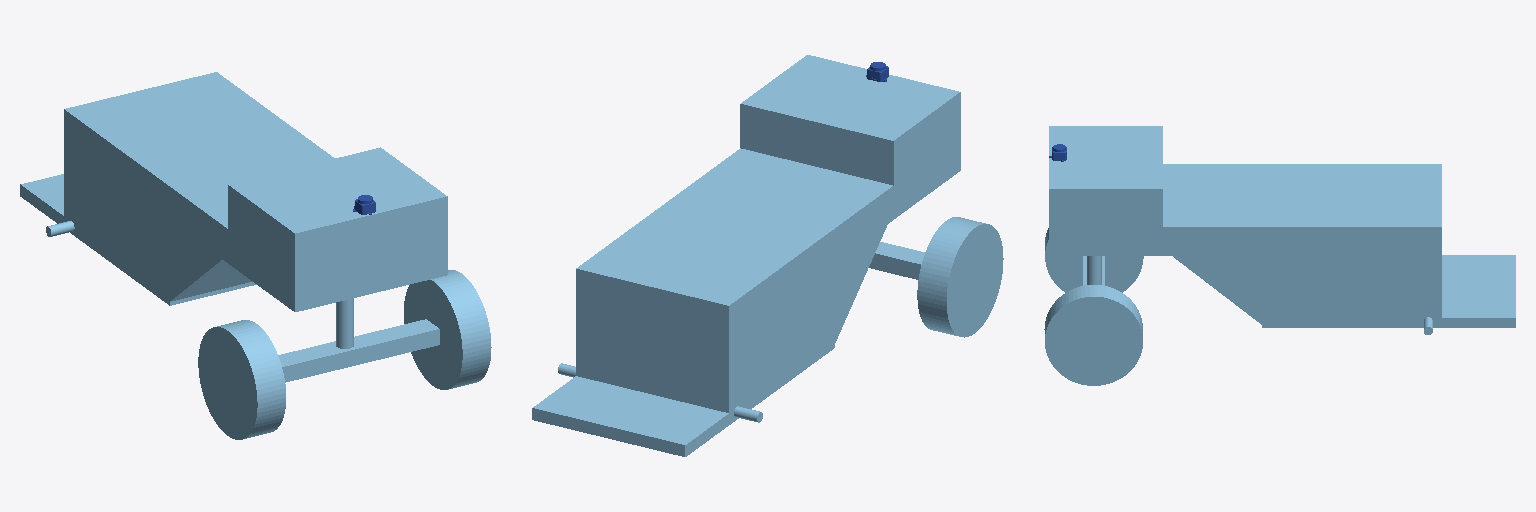
The robot description file, URDF, robot "hermes":
<?xml version="1.0"?>
<robot name="hermes">

    <material name="grey">
        <color rgba="0.7 0.7 0.7 1"/>
    </material>

    <link name="base_footprint">
    	<origin xyz="0 0 0"/>
    </link>    
    
    
    <link name="base_link">
        <inertial>
            <mass value="25.0"/>
            <inertia ixx="0.5" ixy="0.0" ixz="0.0" iyy="0.5" iyz="0.0" izz="0.1"/>
        </inertial>
        <visual>
            <origin xyz="-0.00017382192779770617736 0.44233349576524649827 -0.0084281873210687308084" rpy="0 -0 -1.570796326794896558" />
            <geometry>
                <mesh filename="package://hermes_urdf/urdf/kere.stl"/>
            </geometry>
            <material name="kere_material">
                <color rgba="0.61568627450980395466 0.81176470588235294379 0.92941176470588238168 1.0"/>
            </material>
        </visual>
        <collision>
        	<origin xyz="-0.00017382192779770617736 0.44233349576524649827 -0.0084281873210687308084" rpy="0 -0 -1.570796326794896558" />
            <geometry>
                <mesh filename="package://hermes_urdf/urdf/kere.stl"/>
            </geometry>
        </collision>
    </link>

    <link name="rear_right_wheel">
        <inertial>
            <mass value="3.0"/>
            <inertia ixx="0.1" ixy="0.0" ixz="0.0" iyy="0.1" iyz="0.0" izz="0.05"/>
        </inertial>
        <visual>
            <origin xyz="0 0 0" rpy="0 -0 0" />
            <geometry>
                <mesh filename="package://hermes_urdf/urdf/rehv_tagumine.stl"/>
            </geometry>
            <material name="rehv1_material">
                <color rgba="0.61568627450980395466 0.81176470588235294379 0.92941176470588238168 1.0"/>
            </material>
        </visual>
        <collision>
        	<origin xyz="0 0 0" rpy="0 -0 0" />
            <geometry>
                <mesh filename="package://hermes_urdf/urdf/rehv_tagumine.stl"/>
            </geometry>
        </collision>
    </link>

    <joint name="base_rear_right_wheel_joint" type="continuous">
        <parent link="base_link"/>
        <child link="rear_right_wheel"/>
        <origin xyz="0.25732617807220242723 0.88155349576524644206 0.0015718126789312780733" rpy="1.570796326794896558 1.570796326794896558 0" />
        <axis xyz="0 -1 0"/>
    </joint>

    <link name="front_left_wheel">
        <inertial>
            <mass value="10.0"/>
            <inertia ixx="0.1" ixy="0.0" ixz="0.0" iyy="0.1" iyz="0.0" izz="0.05"/>
        </inertial>
        <visual>
            <origin xyz="0 0 0" rpy="0 0 1.58" />
            <geometry>
                <mesh filename="package://hermes_urdf/urdf/rehv.stl"/>
            </geometry>
            <material name="rehv1_material">
                <color rgba="0.61568627450980395466 0.81176470588235294379 0.92941176470588238168 1.0"/>
            </material>
        </visual>
        <collision>
        	<origin xyz="0 0 0" rpy="0 0 1.58" />
            <geometry>
                <mesh filename="package://hermes_urdf/urdf/rehv.stl"/>
            </geometry>
        </collision>
    </link>

    <joint name="base_front_left_wheel_joint" type="continuous">
        <parent link="liigend"/>
        <child link="front_left_wheel"/>
        <origin xyz="0.30257617807220232864 -0.00024642929502571853106 -0.0034281873210687194287" rpy="0 -0 3.141592653589793116" />
        <axis xyz=" -1 0 0" />
    </joint>

    <link name="rear_left_wheel">
        <inertial>
            <mass value="3.0"/>
            <inertia ixx="0.1" ixy="0.0" ixz="0.0" iyy="0.1" iyz="0.0" izz="0.05"/>
        </inertial>
        <visual>
            <origin xyz="0 0 0" rpy="0 -0 0" />
            <geometry>
                <mesh filename="package://hermes_urdf/urdf/rehv_tagumine.stl"/>
            </geometry>
            <material name="rehv1_material">
                <color rgba="0.61568627450980395466 0.81176470588235294379 0.92941176470588238168 1.0"/>
            </material>
        </visual>
        <collision>
        	<origin xyz="0 0 0" rpy="0 -0 0" />
            <geometry>
                <mesh filename="package://hermes_urdf/urdf/rehv_tagumine.stl"/>
            </geometry>
        </collision>
    </link>

    <joint name="base_rear_left_wheel_joint" type="continuous">
        <parent link="base_link"/>
        <child link="rear_left_wheel"/>
        <origin xyz="-0.207673821927797847 0.88155349576524655308 0.0015718126789312503178" rpy="1.570796326794896558 1.570796326794896558 0" />
        <axis xyz="0 -1 0" />
    </joint>
    
    <link name="front_right_wheel">
        <inertial>
            <mass value="10.0"/>
            <inertia ixx="0.1" ixy="0.0" ixz="0.0" iyy="0.1" iyz="0.0" izz="0.05"/>
        </inertial>
        <visual>
            <origin xyz="0 0 0" rpy="0 0 1.583" />
            <geometry>
                <mesh filename="package://hermes_urdf/urdf/rehv.stl"/>
            </geometry>
            <material name="rehv1_material">
                <color rgba="0.61568627450980395466 0.81176470588235294379 0.92941176470588238168 1.0"/>
            </material>
        </visual>
        <collision>
        	<origin xyz="0 0 0" rpy="0 0 1.583" />
            <geometry>
                <mesh filename="package://hermes_urdf/urdf/rehv.stl"/>
            </geometry>
        </collision>
    </link>

    <joint name="base_front_right_wheel_joint" type="continuous">
        <parent link="liigend"/>
        <child link="front_right_wheel"/>
        <origin xyz="-0.30292382192779770955 -0.00024642929502571853106 -0.0034281873210687333065" rpy="0 -0 0" />
        <axis xyz="-1 0 0" />
    </joint>

    <link name="liigend">
        <inertial>
            <mass value="2.0"/>
            <inertia ixx="0.5" ixy="0.0" ixz="0.0" iyy="0.5" iyz="0.0" izz="0.1"/>
        </inertial>
        <visual>
            <origin xyz="0 0 0" rpy="0 -0 0" />
            <geometry>
                <mesh filename="package://hermes_urdf/urdf/liigend.stl"/>
            </geometry>
            <material name="liigend_material">
                <color rgba="0.61568627450980395466 0.81176470588235294379 0.92941176470588238168 1.0"/>
            </material>
        </visual>
    </link>

    <joint name="liigend_to_kere_joint" type="revolute">
        <parent link="base_link"/>
        <child link="liigend"/>
        <origin xyz="-0.00017382192779770433422 -0.00024642929502571853106 -0.0034281873210687263676" rpy="0 -0 0" />
        <axis xyz="0 0 1"/>
        <limit lower="-0.7854" upper="0.7854" effort="50" velocity="2"/>

        
    </joint>
    
    <joint name="base_joint" type="fixed">
        <parent link="base_footprint"/>
        <child link="base_link"/>
        <origin xyz="0 0 0.1" rpy="0 0 0"/>
    </joint>
    
   
    
    
    <link name="imu_link">
    </link>

    <joint name="base_link_to_imu" type="fixed">
        <parent link="base_link"/>
        <child link="imu_link"/>
        <origin xyz="-0.00032976124091513292491 -0.091578898488961058 0.3865718126789312592" rpy="6.3108872417680804303e-30 -2.9537602700216738211e-30 -3.141592653589793116" />
    </joint>

    
    
    
    <ros2_control name="MyRobotHardware" type="system">

          <!-- Use the GenericSystem hardware plugin for real hardware -->
          <hardware>
              <plugin>ros2_control_components/GenericSystem</plugin>
              <param name="example_param">example_value</param>
          </hardware>

          <!-- Define the left wheel joint -->
          <joint name="base_rear_left_wheel_joint">
              <command_interface name="velocity">
                  <param name="min">-10</param>
                  <param name="max">10</param>
              </command_interface>
              <state_interface name="position"/>
              <state_interface name="velocity"/>
          </joint>

          <!-- Define the right wheel joint -->
          <joint name="base_rear_right_wheel_joint">
              <command_interface name="velocity">
                  <param name="min">-10</param>
                  <param name="max">10</param>
              </command_interface>
              <state_interface name="position"/>
              <state_interface name="velocity"/>
          </joint>
    
      </ros2_control>
    
    <material name="ld19 color">
        <color rgba="0.2313725490196078538 0.38039215686274507888 0.7058823529411765163 1.0"/>
    </material>
    
    <link name="ld19">
        <inertial>
            <mass value="0.1"/>
            <inertia ixx="0.5" ixy="0.0" ixz="0.0" iyy="0.5" iyz="0.0" izz="0.5"/>
        </inertial>
        <visual>
            <origin xyz="0 0 0" rpy="0 0 0" />
            <geometry>
                <mesh filename="package://hermes_urdf/urdf/ld19.stl"/>
            </geometry>
            <material name="ld19_material">
                <color rgba="0.2313725490196078538 0.38039215686274507888 0.7058823529411765163 1.0"/>
            </material>
        </visual>
    </link>

    <joint name="base_lidar_joint" type="fixed">
        <parent link="base_link"/>
        <child link="ld19"/>
        <origin xyz="-0.00032976124091513292491 -0.091578898488961058 0.3865718126789312592" rpy="6.3108872417680804303e-30 -2.9537602700216738211e-30 -3.141592653589793116" />

    </joint>
    
    
</robot>

--- Facts derived from the render (not from the file) ---
3 views of the same robot in one strip: view 1: azimuth 30°, elevation 25°; view 2: azimuth 150°, elevation 25°; view 3: azimuth 270°, elevation 25° (orthographic).
Robot: hermes — 9 links, 8 joints (1 revolute, 4 continuous, 3 fixed); root link base_footprint; default pose: every joint at zero.
Links seen in each view (by area): view 1: base_link, front_right_wheel, front_left_wheel, liigend; view 2: base_link, front_right_wheel, liigend; view 3: base_link, front_left_wheel, front_right_wheel, liigend.
Link boxes in pixels (bbox=[...]): base_link: bbox=[20, 72, 447, 311]; front_right_wheel: bbox=[198, 320, 285, 439]; front_left_wheel: bbox=[404, 270, 491, 389]; liigend: bbox=[278, 298, 439, 382]; base_link: bbox=[532, 55, 960, 456]; front_right_wheel: bbox=[917, 217, 1003, 337]; liigend: bbox=[869, 242, 924, 279]; base_link: bbox=[1049, 126, 1515, 334]; front_left_wheel: bbox=[1044, 285, 1142, 385]; front_right_wheel: bbox=[1045, 228, 1143, 292]; liigend: bbox=[1083, 256, 1104, 342].
Size in the robot's own frame: 0.6083 by 1.24 by 0.5547 metres.
5 mesh visuals loaded from 5 distinct referenced files (4 binary STL); not drawn: 2 (reference not matched to a file when rendering).
